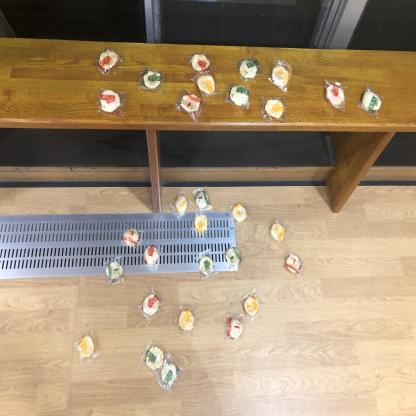green_setoshio: (224, 80, 252, 110), (359, 86, 384, 119), (160, 355, 182, 391), (235, 53, 264, 80), (138, 66, 164, 95), (142, 342, 164, 376), (195, 249, 218, 281), (103, 257, 125, 286), (192, 184, 214, 212), (224, 243, 243, 270)
red_setoshio: (92, 84, 130, 118), (92, 44, 124, 77), (322, 76, 348, 113), (176, 90, 206, 119), (139, 288, 163, 322), (120, 223, 143, 250), (283, 250, 305, 277), (225, 313, 245, 342), (189, 52, 212, 74), (143, 243, 162, 269)
yellow_setoshio: (257, 92, 288, 125), (268, 58, 296, 92), (73, 331, 101, 364), (240, 289, 264, 323), (174, 304, 198, 336), (192, 71, 220, 98), (169, 188, 192, 218), (268, 218, 289, 246), (190, 210, 212, 235), (228, 201, 251, 224)
